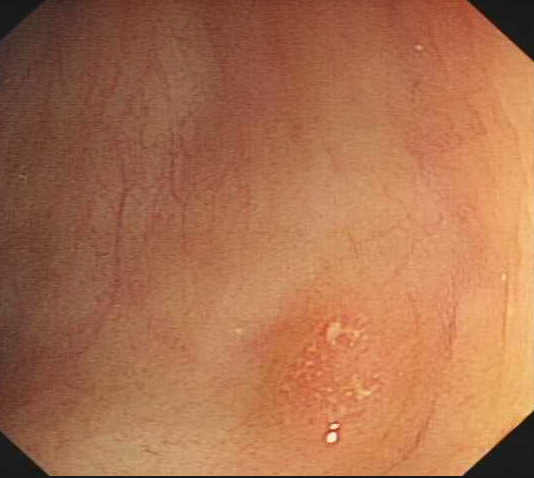others: (267, 306, 391, 453)
